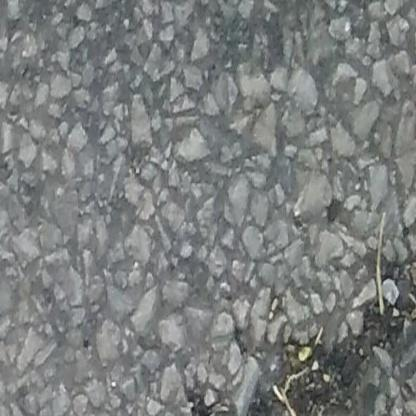Cracks: (182, 259, 416, 416)
